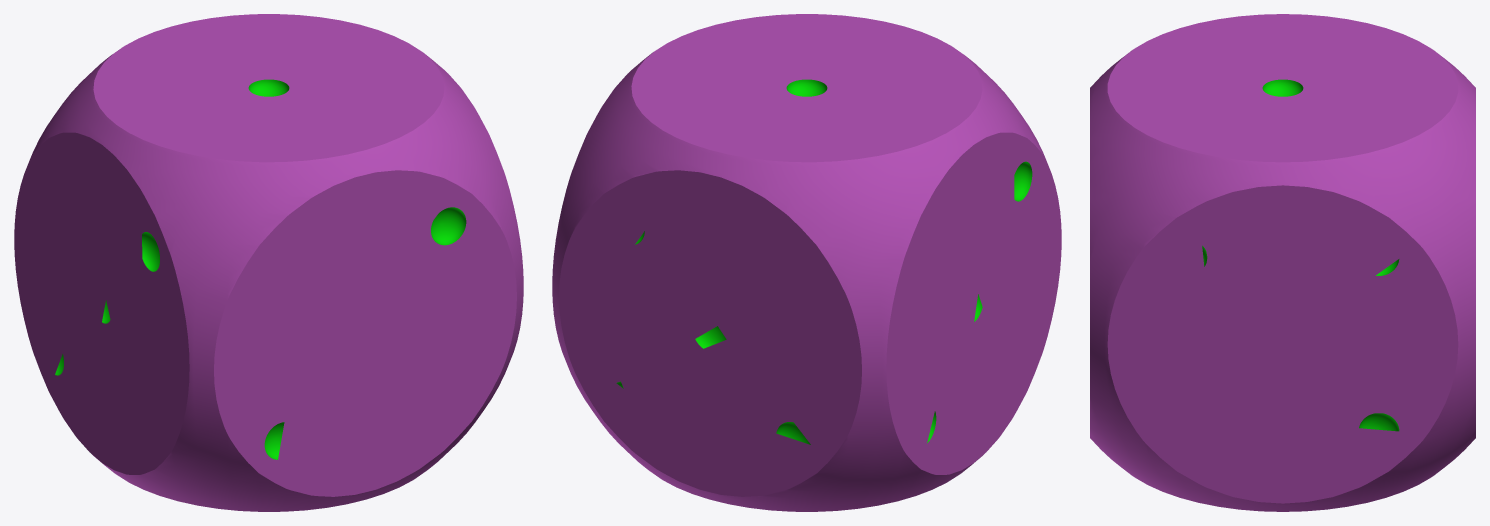
File: dice_mapped.fbx
3 renders of one model, left to right at view 1: azimuth 30°, elevation 25°; view 2: azimuth 150°, elevation 25°; view 3: azimuth 270°, elevation 25°, orthographic.
Parts seen in each view (by area): view 1: pSphere11; view 2: pSphere11; view 3: pSphere11.
Part boxes in pixels (x1,y1,x2,y2): pSphere11: (14, 14, 523, 511); pSphere11: (552, 14, 1061, 511); pSphere11: (1090, 14, 1475, 511).
Size of the model in its own units: 1.06 by 1.06 by 1.06.
